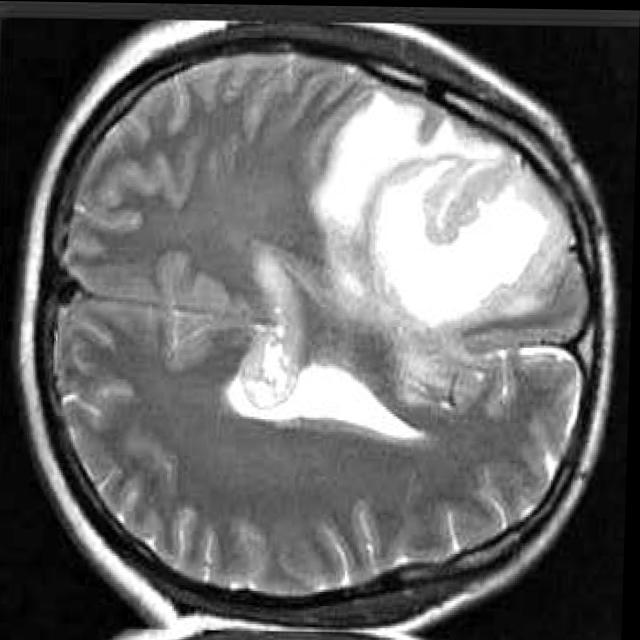Tumor: (314, 89, 547, 325)
